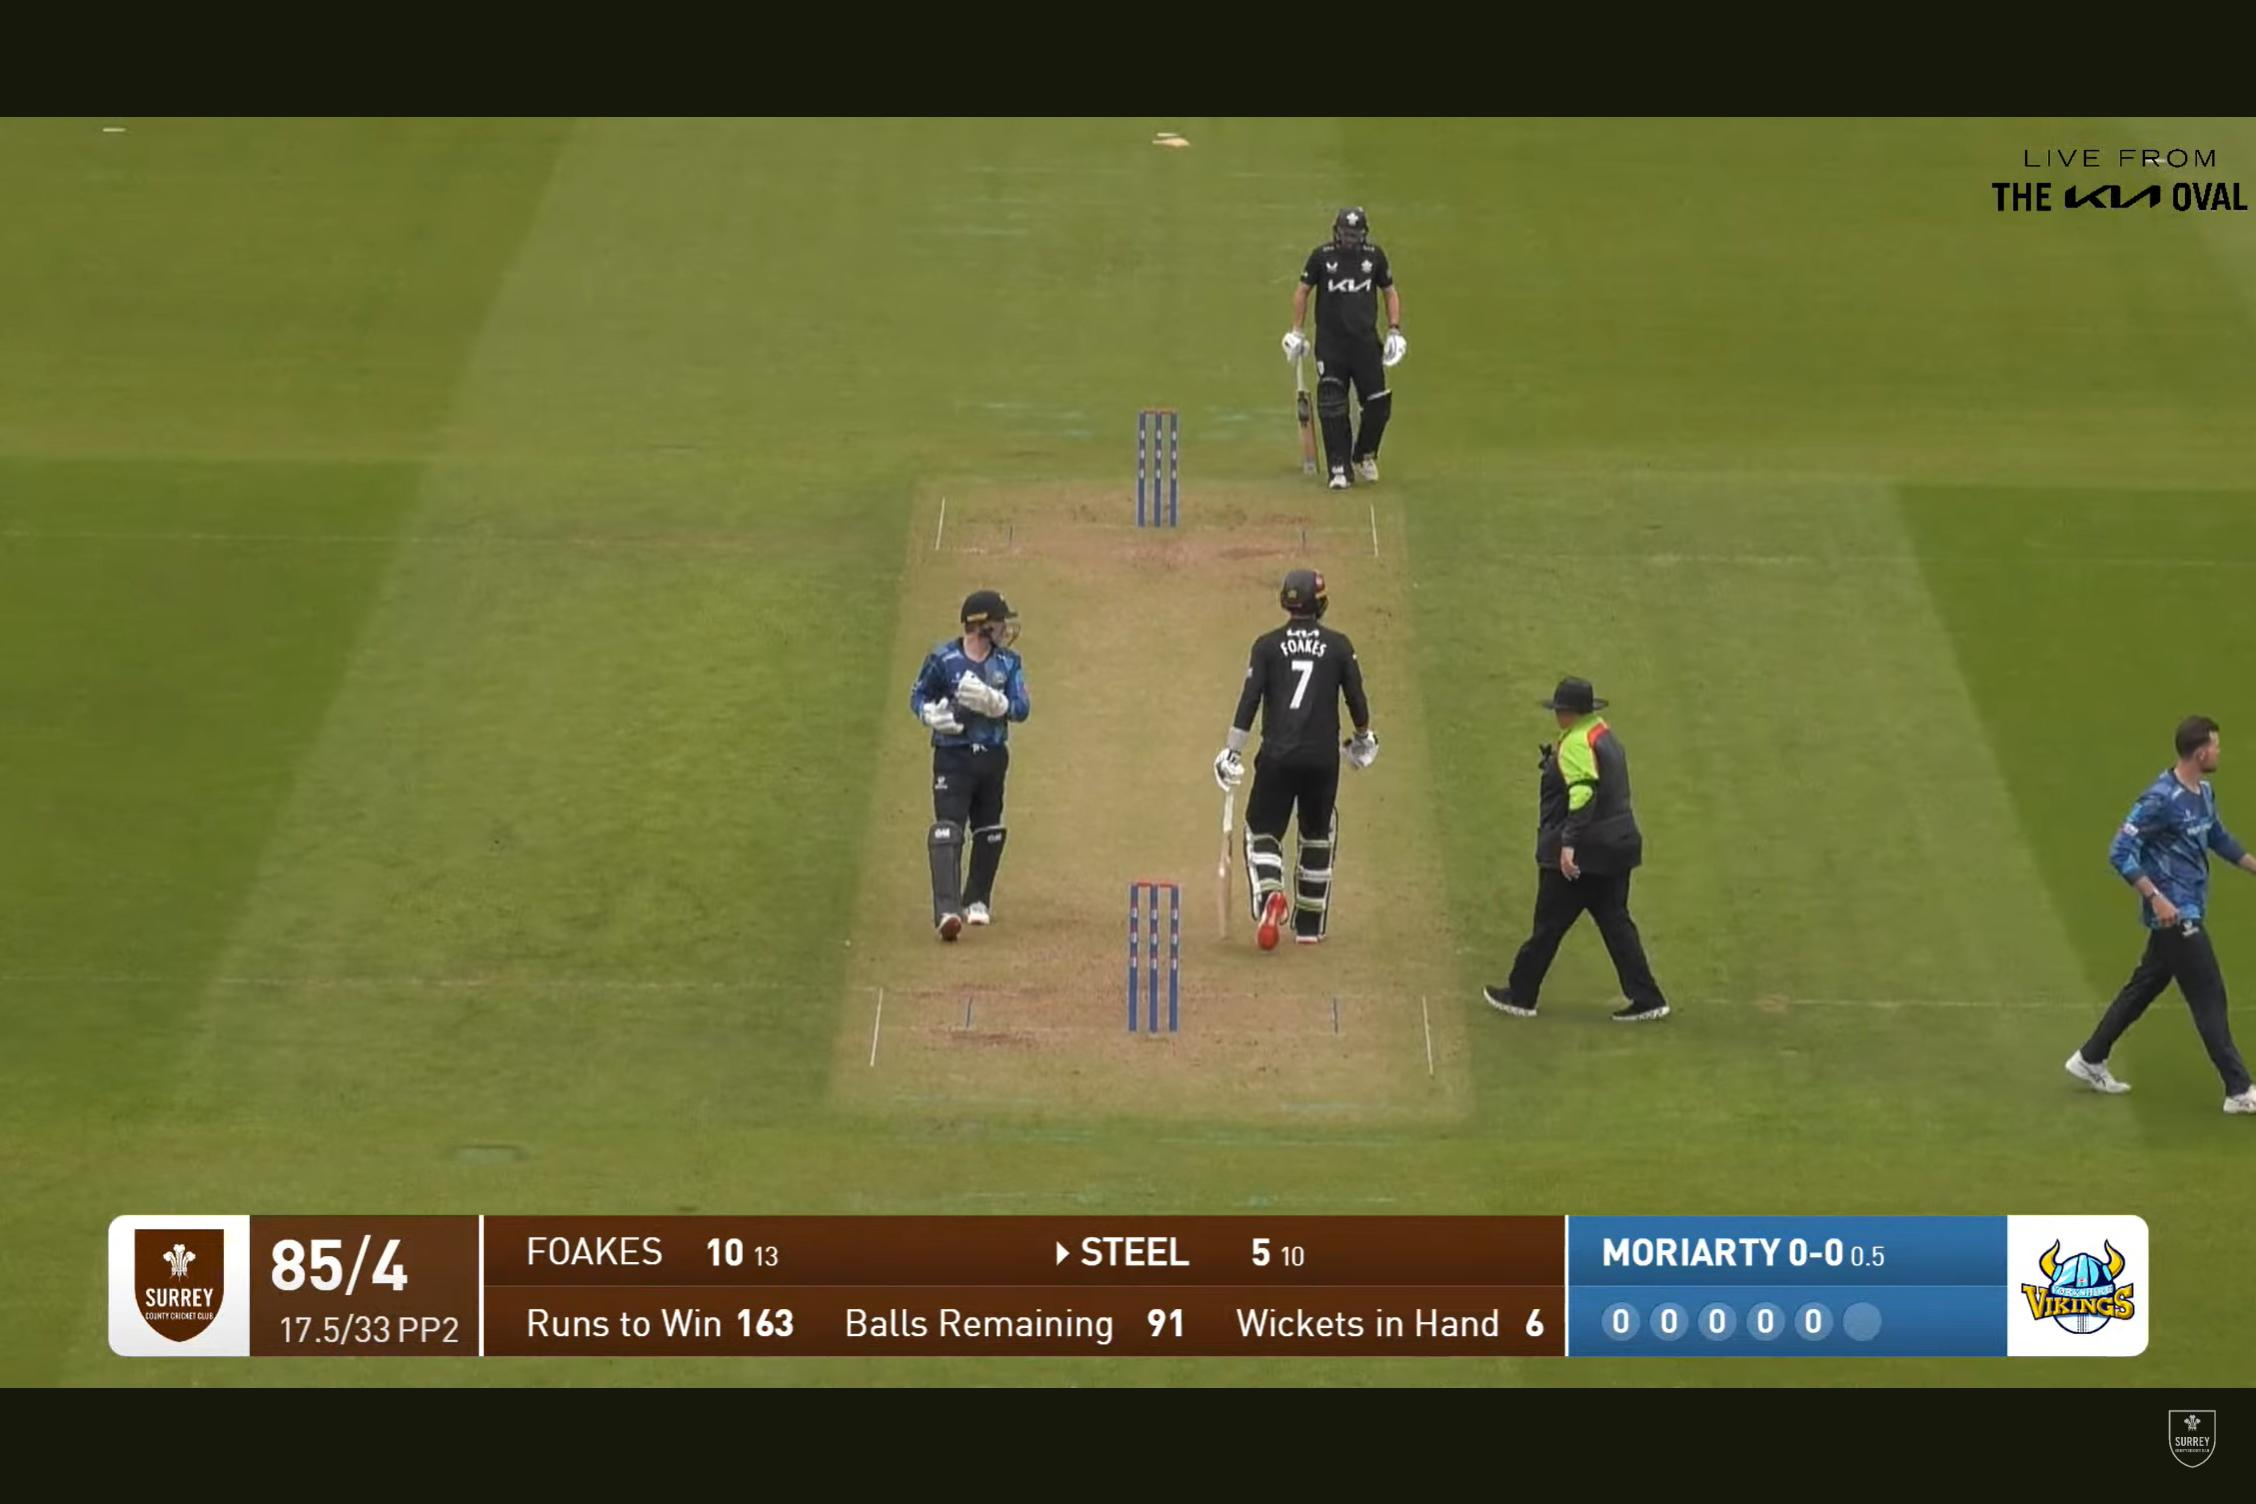batsman: (1286, 198, 1392, 493)
non striker: (1204, 547, 1376, 980)
stumps: (1096, 366, 1198, 540), (1113, 853, 1190, 1052)
umpire: (1486, 648, 1647, 1034)
wicket keeper: (888, 561, 1042, 955)
